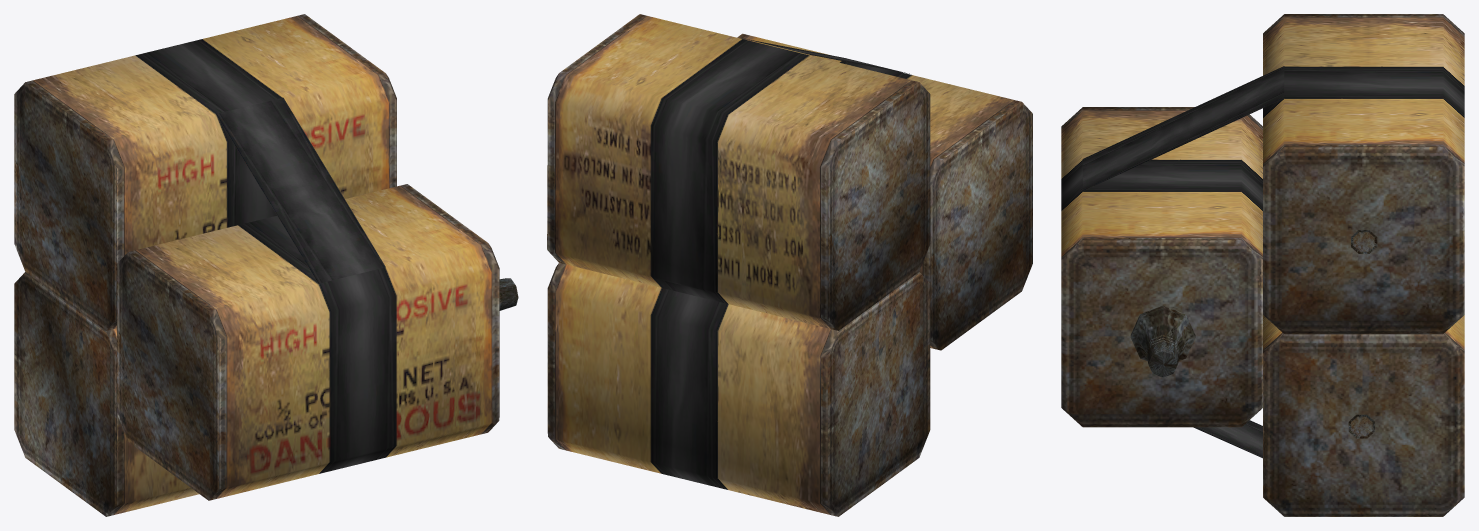
The model's file is weapon_explosives_lod11.obj.
3 renders of one model, left to right at view 1: azimuth 30°, elevation 25°; view 2: azimuth 150°, elevation 25°; view 3: azimuth 270°, elevation 25°, orthographic.
Parts seen in each view (by area): view 1: TomGroup_0; view 2: TomGroup_0; view 3: TomGroup_0.
Boxes of the visible parts, x1=… form: TomGroup_0: x1=14, y1=14, x2=518, y2=516; TomGroup_0: x1=547, y1=14, x2=1032, y2=516; TomGroup_0: x1=1061, y1=14, x2=1464, y2=516.
Bounding box in the file's own units: 17.59 × 18.4 × 18.2.
1 material, 1 textured.
